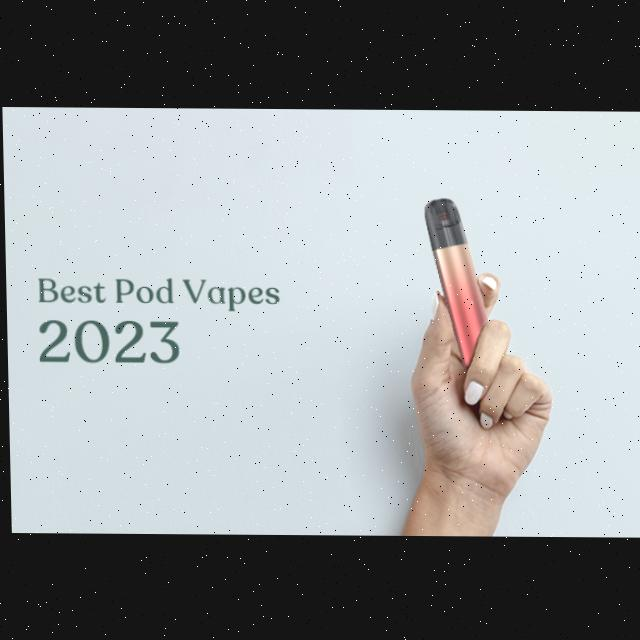vape: (424, 197, 486, 368)
